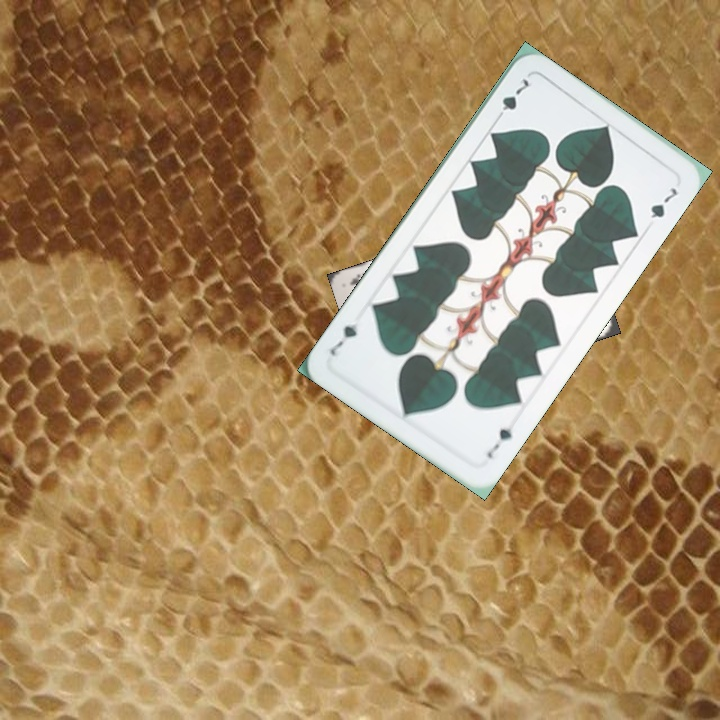G7: (492, 74, 532, 124), (483, 423, 515, 462)
